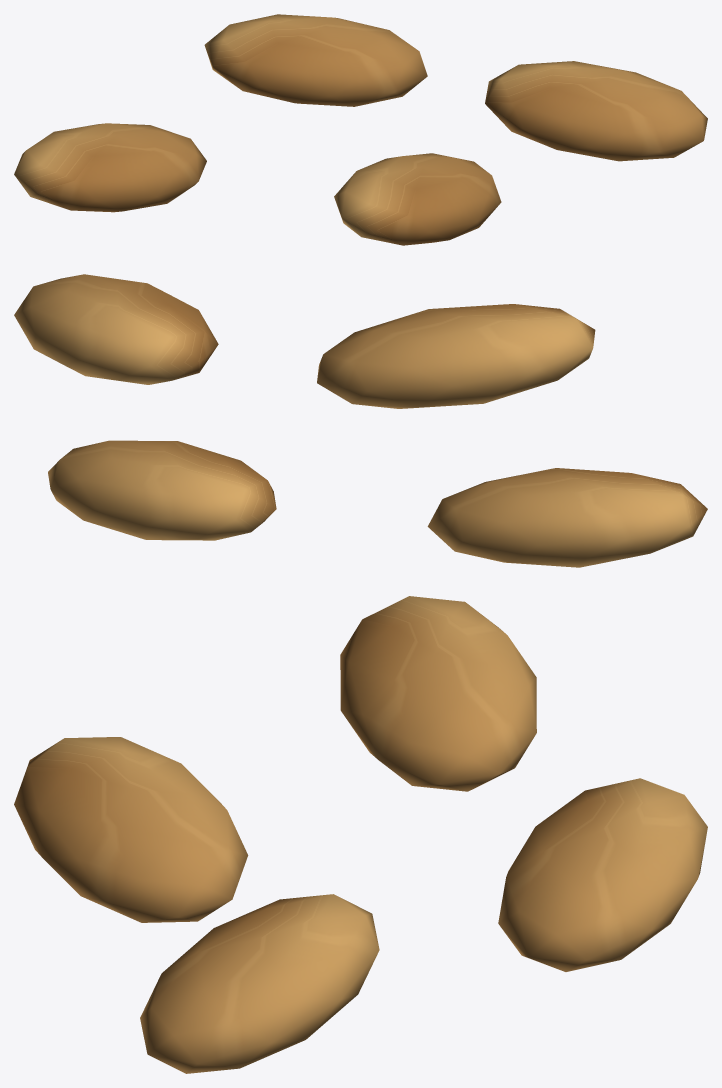
The model's file is NP_Blackberry_Seed.fbx.
3 views of the same model, one above another, from view 1: azimuth 30°, elevation 25°; view 2: azimuth 150°, elevation 25°; view 3: azimuth 270°, elevation 25° (orthographic). The views are drawn at different scales.
Visible parts, largest first — view 1: NP_Blackberry_Seed; view 2: NP_Blackberry_Seed; view 3: NP_Blackberry_Seed.
Boxes of the visible parts, x1,y1,x2,y2 form: NP_Blackberry_Seed: (14,14,707,245); NP_Blackberry_Seed: (14,274,707,567); NP_Blackberry_Seed: (14,596,707,1073).
Size of the model in its own units: 13.83 by 1.55 by 9.7.
